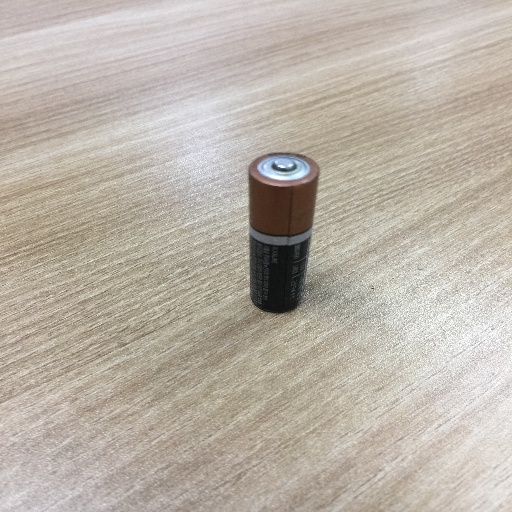Battery_0: (236, 141, 334, 328)
